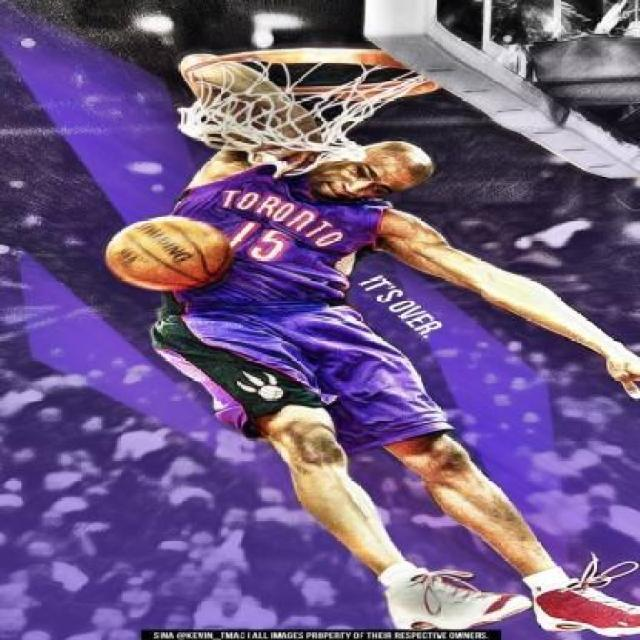basketball: (102, 215, 235, 292)
rim: (178, 50, 422, 166)
